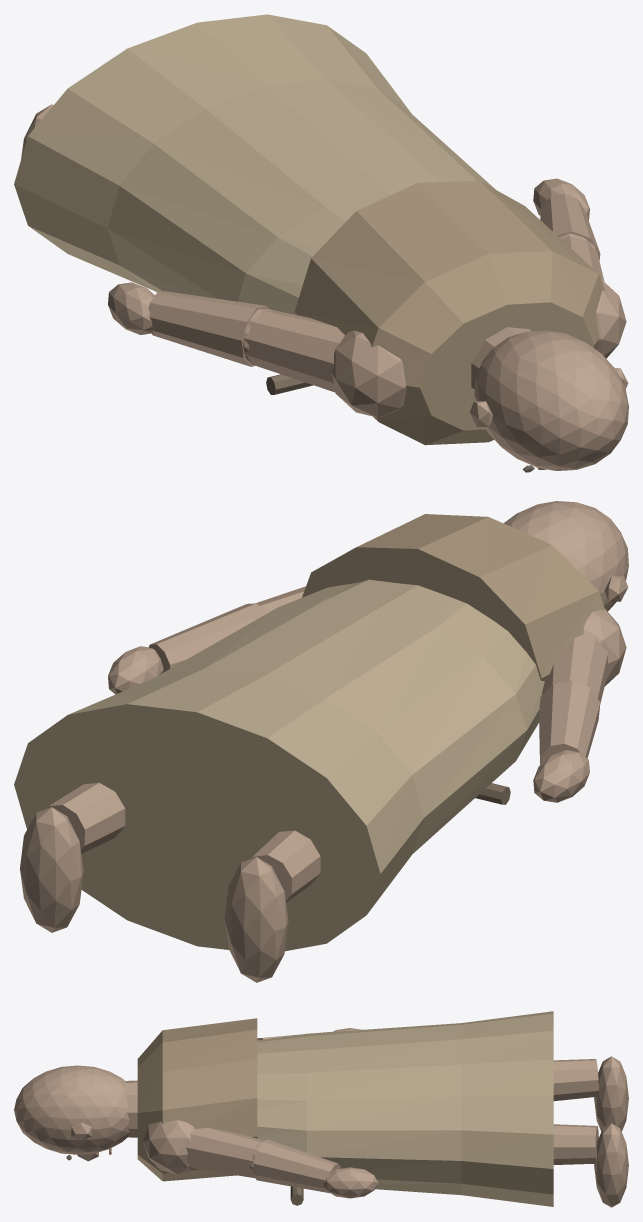
Rendered from woman_slender__thinker.glb.
The picture shows the model from 3 angles, top to bottom: view 1: azimuth 30°, elevation 25°; view 2: azimuth 150°, elevation 25°; view 3: azimuth 270°, elevation 25°; orthographic projection. The views are drawn at different scales.
Parts seen in each view (by area): view 1: part_027, part_031, part_010, part_018, part_020, part_017, part_021, part_025, part_022, part_026, part_009, part_023; view 2: part_027, part_031, part_007, part_003, part_010, part_020, part_006, part_025, part_002, part_018, part_021, part_026 (+1 smaller); view 3: part_027, part_031, part_010, part_025, part_023, part_007, part_022, part_003, part_002, part_006, part_026, part_009 (+1 smaller).
Part boxes in pixels (x1,y1,x2,y2): part_027: (14, 14, 495, 314); part_031: (294, 181, 605, 445); part_010: (474, 330, 628, 470); part_018: (244, 309, 344, 392); part_020: (148, 291, 269, 366); part_017: (331, 330, 406, 417); part_021: (108, 282, 154, 334); part_025: (540, 193, 600, 260); part_022: (596, 279, 626, 358); part_026: (533, 178, 589, 220); part_009: (471, 327, 531, 390); part_023: (561, 235, 604, 281); part_027: (14, 579, 544, 951); part_031: (302, 514, 605, 681); part_007: (20, 807, 83, 932); part_003: (224, 857, 288, 982); part_010: (503, 501, 628, 611); part_020: (539, 680, 600, 764); part_006: (47, 782, 125, 853); part_025: (149, 603, 266, 672); part_002: (251, 830, 320, 902); part_018: (542, 634, 608, 703); part_021: (533, 750, 589, 802); part_026: (108, 646, 163, 694); part_027: (257, 1011, 553, 1206); part_031: (137, 1018, 257, 1181); part_010: (14, 1065, 129, 1154); part_025: (253, 1139, 340, 1193); part_023: (186, 1127, 262, 1178); part_007: (594, 1123, 628, 1207); part_022: (143, 1120, 195, 1174); part_003: (594, 1056, 628, 1131); part_002: (553, 1059, 598, 1101); part_006: (553, 1124, 598, 1164); part_026: (323, 1167, 378, 1198); part_009: (124, 1080, 137, 1137).
Bounding box in the file's own units: 1.5 × 0.725 × 2.56.
